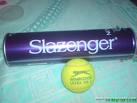tennis ball: (60, 58, 96, 95)
